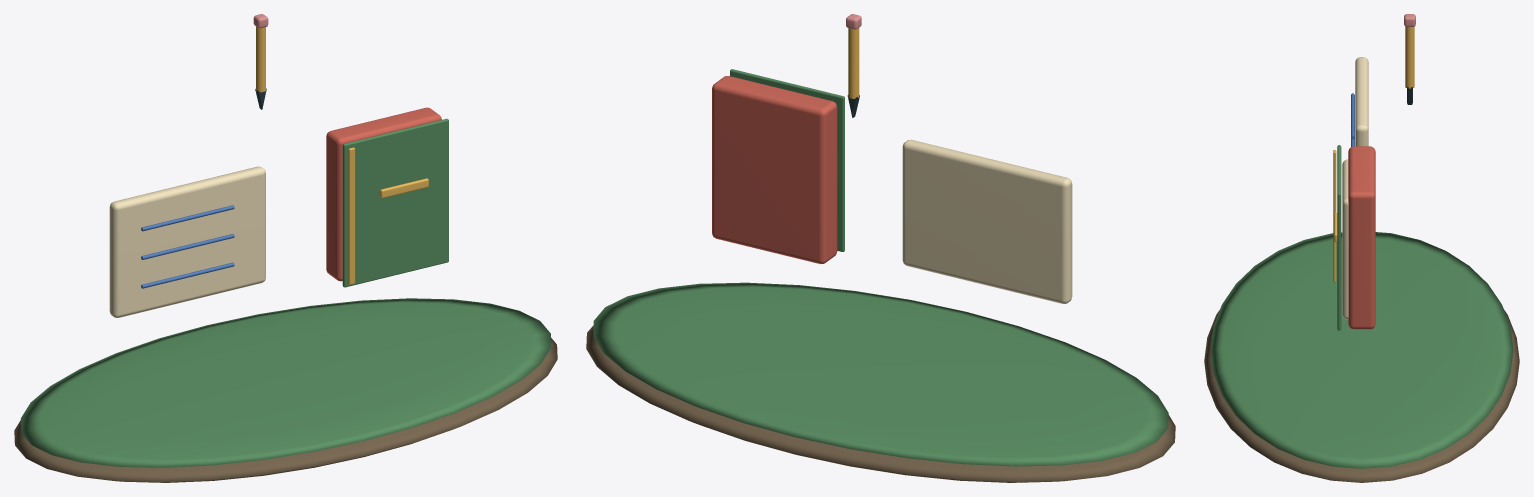
File: complete-third-writing-chapter.glb
3 views of the same model, side by side, from view 1: azimuth 30°, elevation 25°; view 2: azimuth 150°, elevation 25°; view 3: azimuth 270°, elevation 25° (orthographic). The views are drawn at different scales.
Parts seen in each view (by area): view 1: complete-third-writing-chapter_surface_01, complete-third-writing-chapter_surface_02, complete-third-writing-chapter_surface_00, complete-third-writing-chapter_surface_04, complete-third-writing-chapter_surface_05, complete-third-writing-chapter_surface_03; view 2: complete-third-writing-chapter_surface_01, complete-third-writing-chapter_surface_02, complete-third-writing-chapter_surface_04, complete-third-writing-chapter_surface_00, complete-third-writing-chapter_surface_05; view 3: complete-third-writing-chapter_surface_01, complete-third-writing-chapter_surface_00, complete-third-writing-chapter_surface_04, complete-third-writing-chapter_surface_02, complete-third-writing-chapter_surface_05.
Part boxes in pixels (box(x1,y1,x2,y2)): complete-third-writing-chapter_surface_01: box(20, 118, 551, 467); complete-third-writing-chapter_surface_02: box(109, 166, 265, 317); complete-third-writing-chapter_surface_00: box(14, 338, 557, 482); complete-third-writing-chapter_surface_04: box(326, 107, 441, 281); complete-third-writing-chapter_surface_05: box(256, 26, 428, 284); complete-third-writing-chapter_surface_03: box(141, 205, 234, 288); complete-third-writing-chapter_surface_01: box(593, 69, 1168, 466); complete-third-writing-chapter_surface_02: box(902, 139, 1072, 303); complete-third-writing-chapter_surface_04: box(712, 76, 837, 264); complete-third-writing-chapter_surface_00: box(586, 325, 1175, 482); complete-third-writing-chapter_surface_05: box(848, 27, 859, 98); complete-third-writing-chapter_surface_01: box(1210, 145, 1513, 468); complete-third-writing-chapter_surface_00: box(1204, 310, 1519, 482); complete-third-writing-chapter_surface_04: box(1348, 146, 1375, 329); complete-third-writing-chapter_surface_02: box(1342, 57, 1368, 319); complete-third-writing-chapter_surface_05: box(1333, 26, 1414, 282).
Size of the model in its own units: 4.56 by 3.15 by 2.5.
